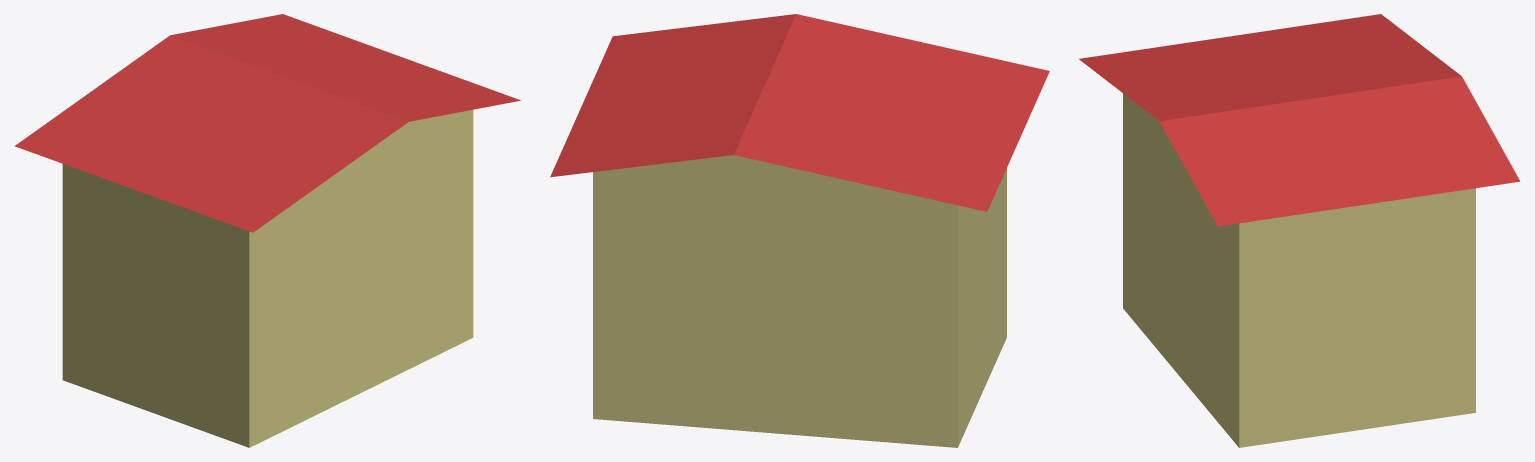
The picture shows the model from 3 angles, left to right: view 1: azimuth 30°, elevation 25°; view 2: azimuth 150°, elevation 25°; view 3: azimuth 270°, elevation 25°; orthographic projection. The views are drawn at different scales.
Size of the model in its own units: 10.84 by 9.52 by 6.54.
